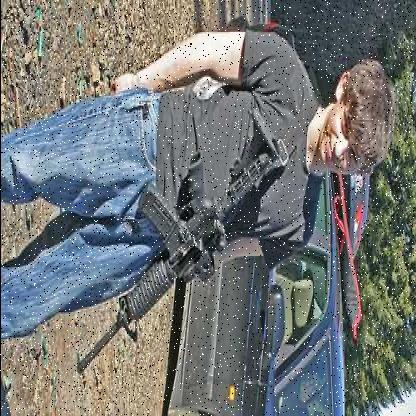rifle: (68, 134, 281, 392)
